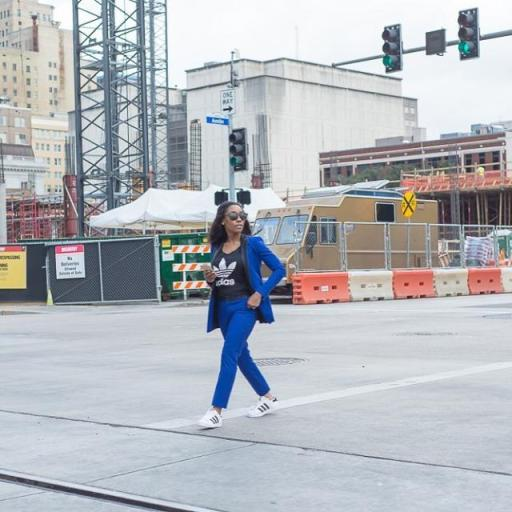Adidas: (209, 258, 238, 286)
